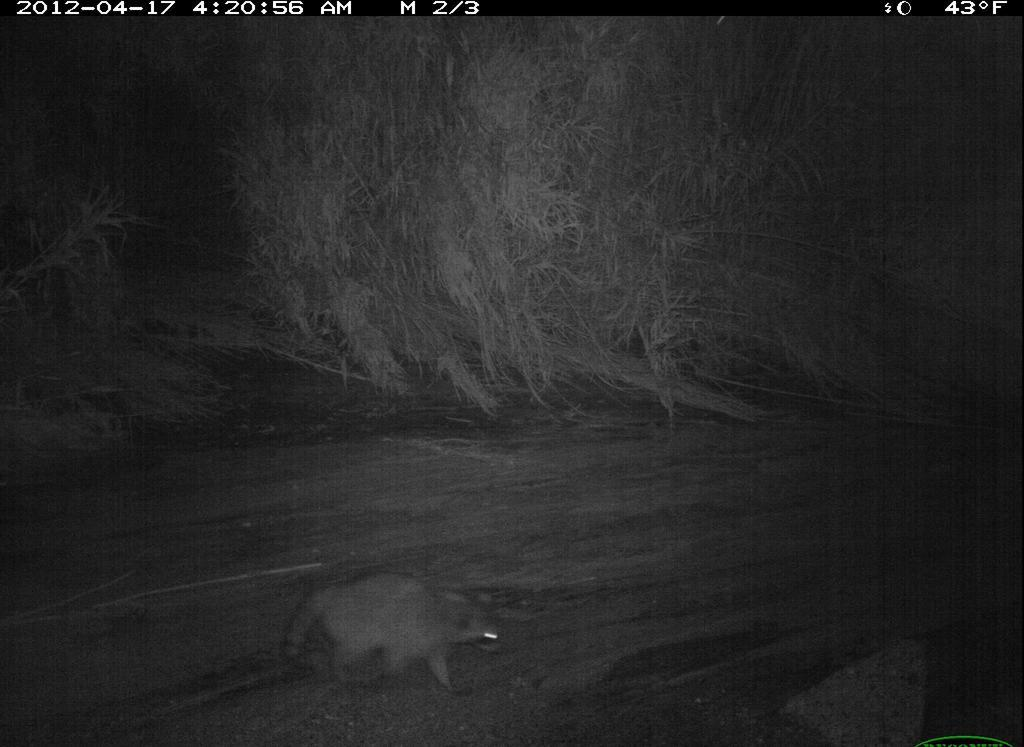raccoon: (269, 542, 523, 706)
